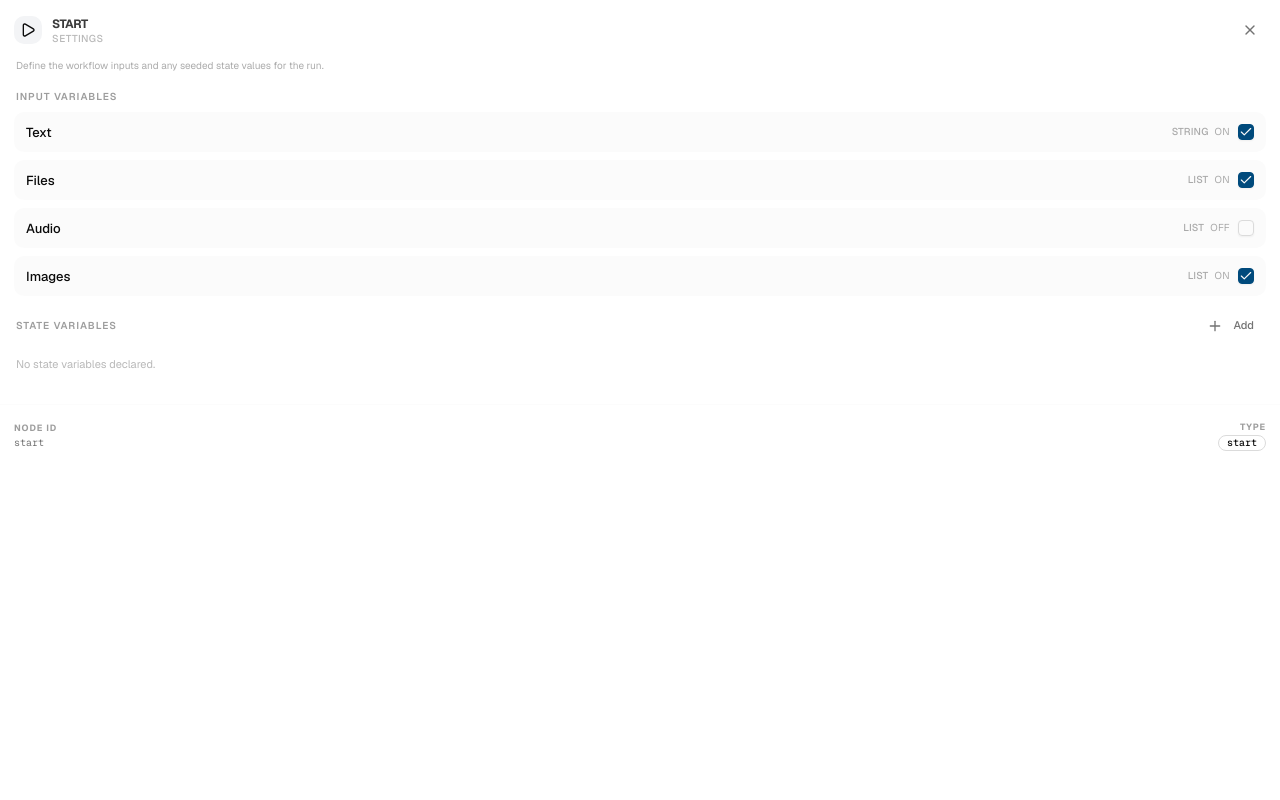
Scenario: ConfigPanel value_ref contracts › blocks disabling a workflow input while it still has consumers
The width and height of the screenshot is (1280, 800).
Click the checkbox named "Toggle Text" at point(1246, 132), box [1238, 124, 1254, 140]
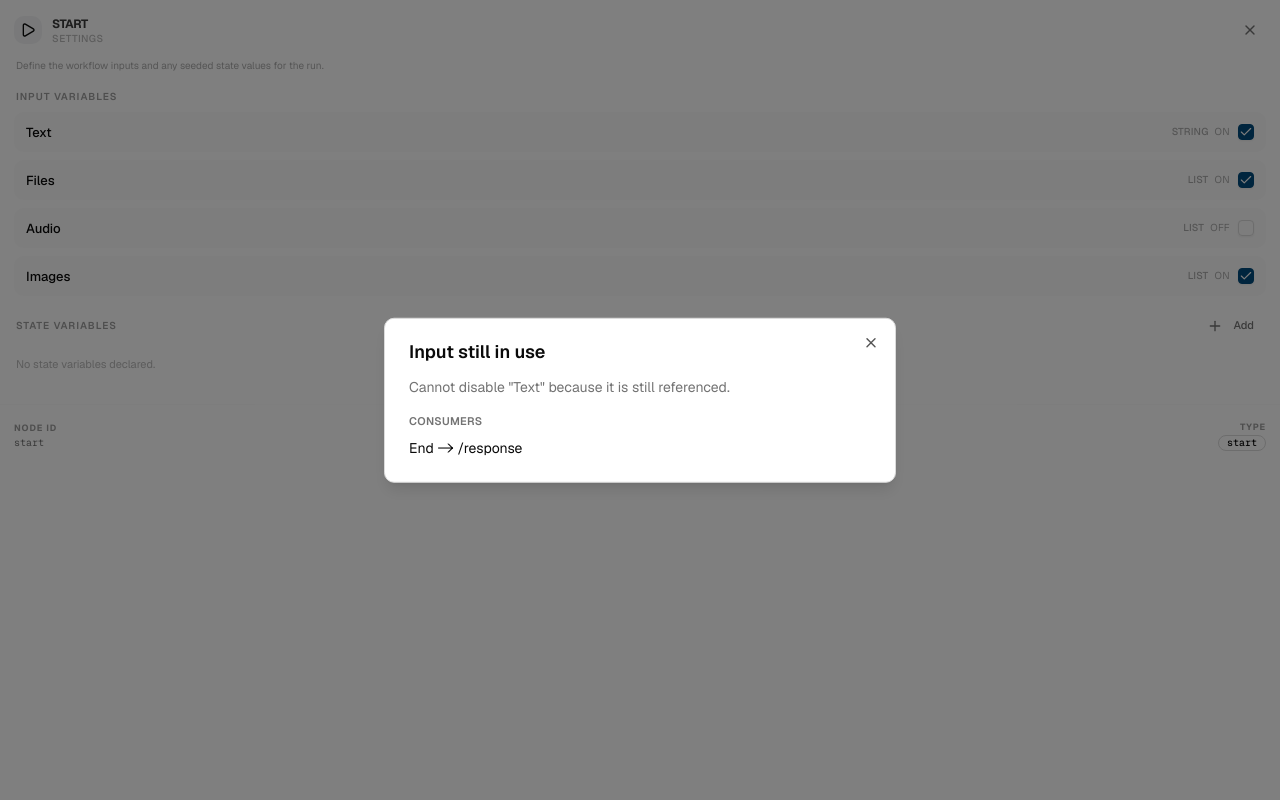
Now the text "Cannot disable \"Text\" because it is still referenced." is shown, box [409, 378, 730, 396]
Now the list item "End -> /response" is shown, box [409, 438, 522, 456]
